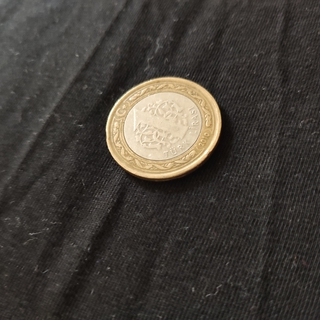1TL: (103, 74, 224, 183)
